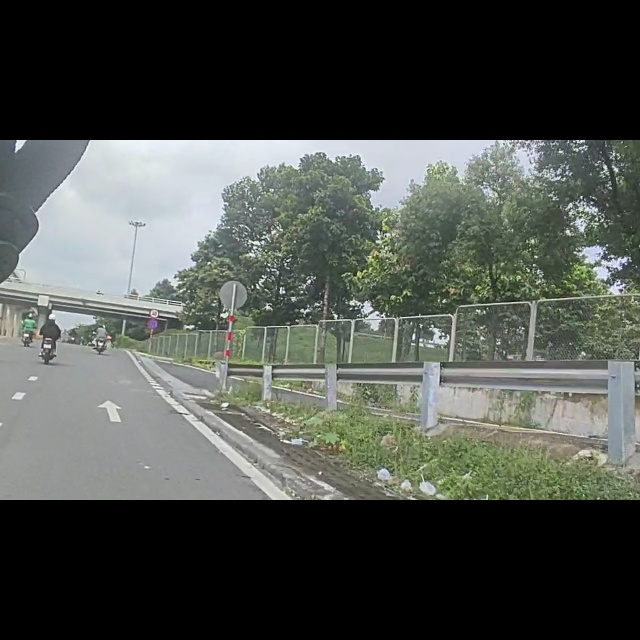bien_cam: (147, 319, 158, 337), (149, 300, 159, 316)
